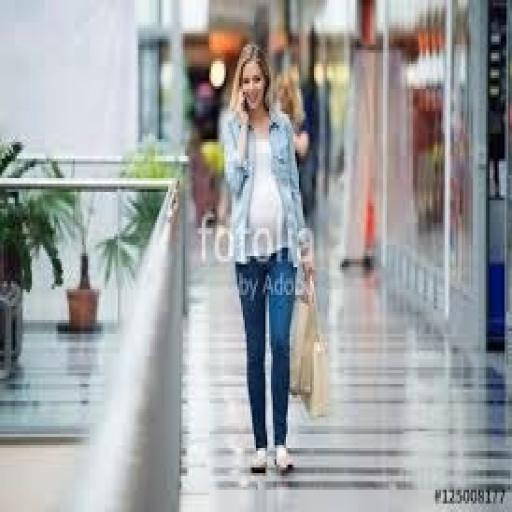calling: (215, 39, 316, 479)
